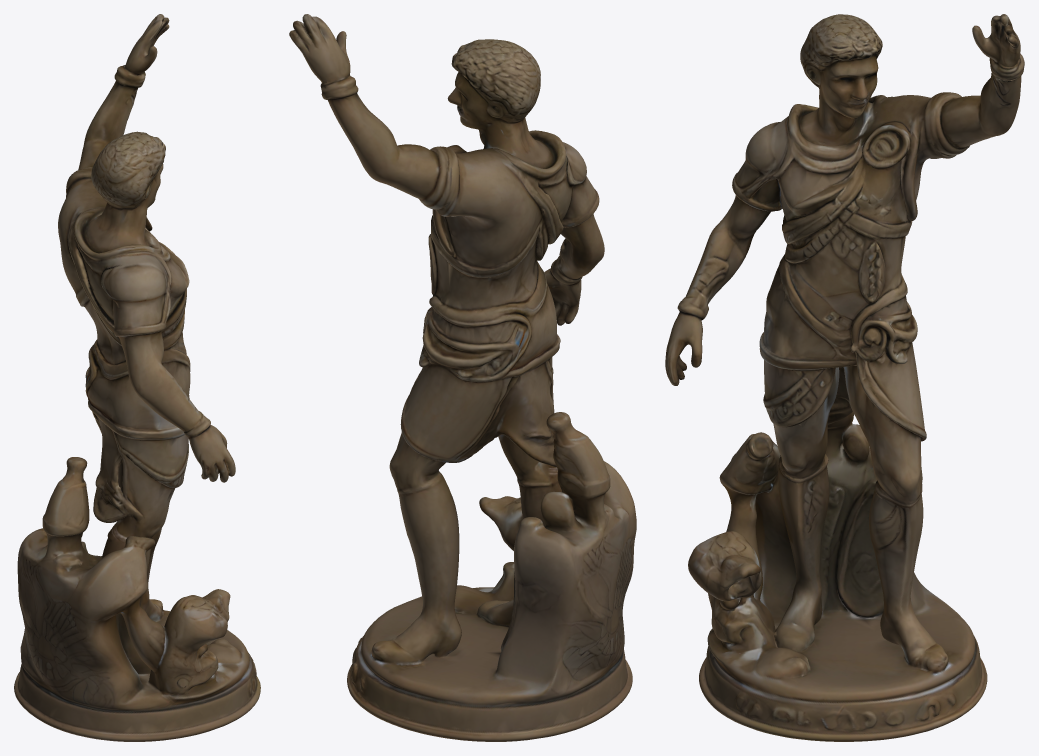
File: city-statue-hero.glb
3 renders of one model, left to right at view 1: azimuth 30°, elevation 25°; view 2: azimuth 150°, elevation 25°; view 3: azimuth 270°, elevation 25°, orthographic. The views are drawn at different scales.
Parts seen in each view (by area): view 1: tripo_node_b063e088-5c5f-41f2-98ae-01cf55577a34; view 2: tripo_node_b063e088-5c5f-41f2-98ae-01cf55577a34; view 3: tripo_node_b063e088-5c5f-41f2-98ae-01cf55577a34.
Boxes of the visible parts, bbox=[...] form: tripo_node_b063e088-5c5f-41f2-98ae-01cf55577a34: bbox=[14, 14, 260, 741]; tripo_node_b063e088-5c5f-41f2-98ae-01cf55577a34: bbox=[289, 14, 636, 741]; tripo_node_b063e088-5c5f-41f2-98ae-01cf55577a34: bbox=[665, 14, 1024, 741].
Bounding box in the file's own units: 1.82 × 5 × 2.26.
1 material, 1 textured.
